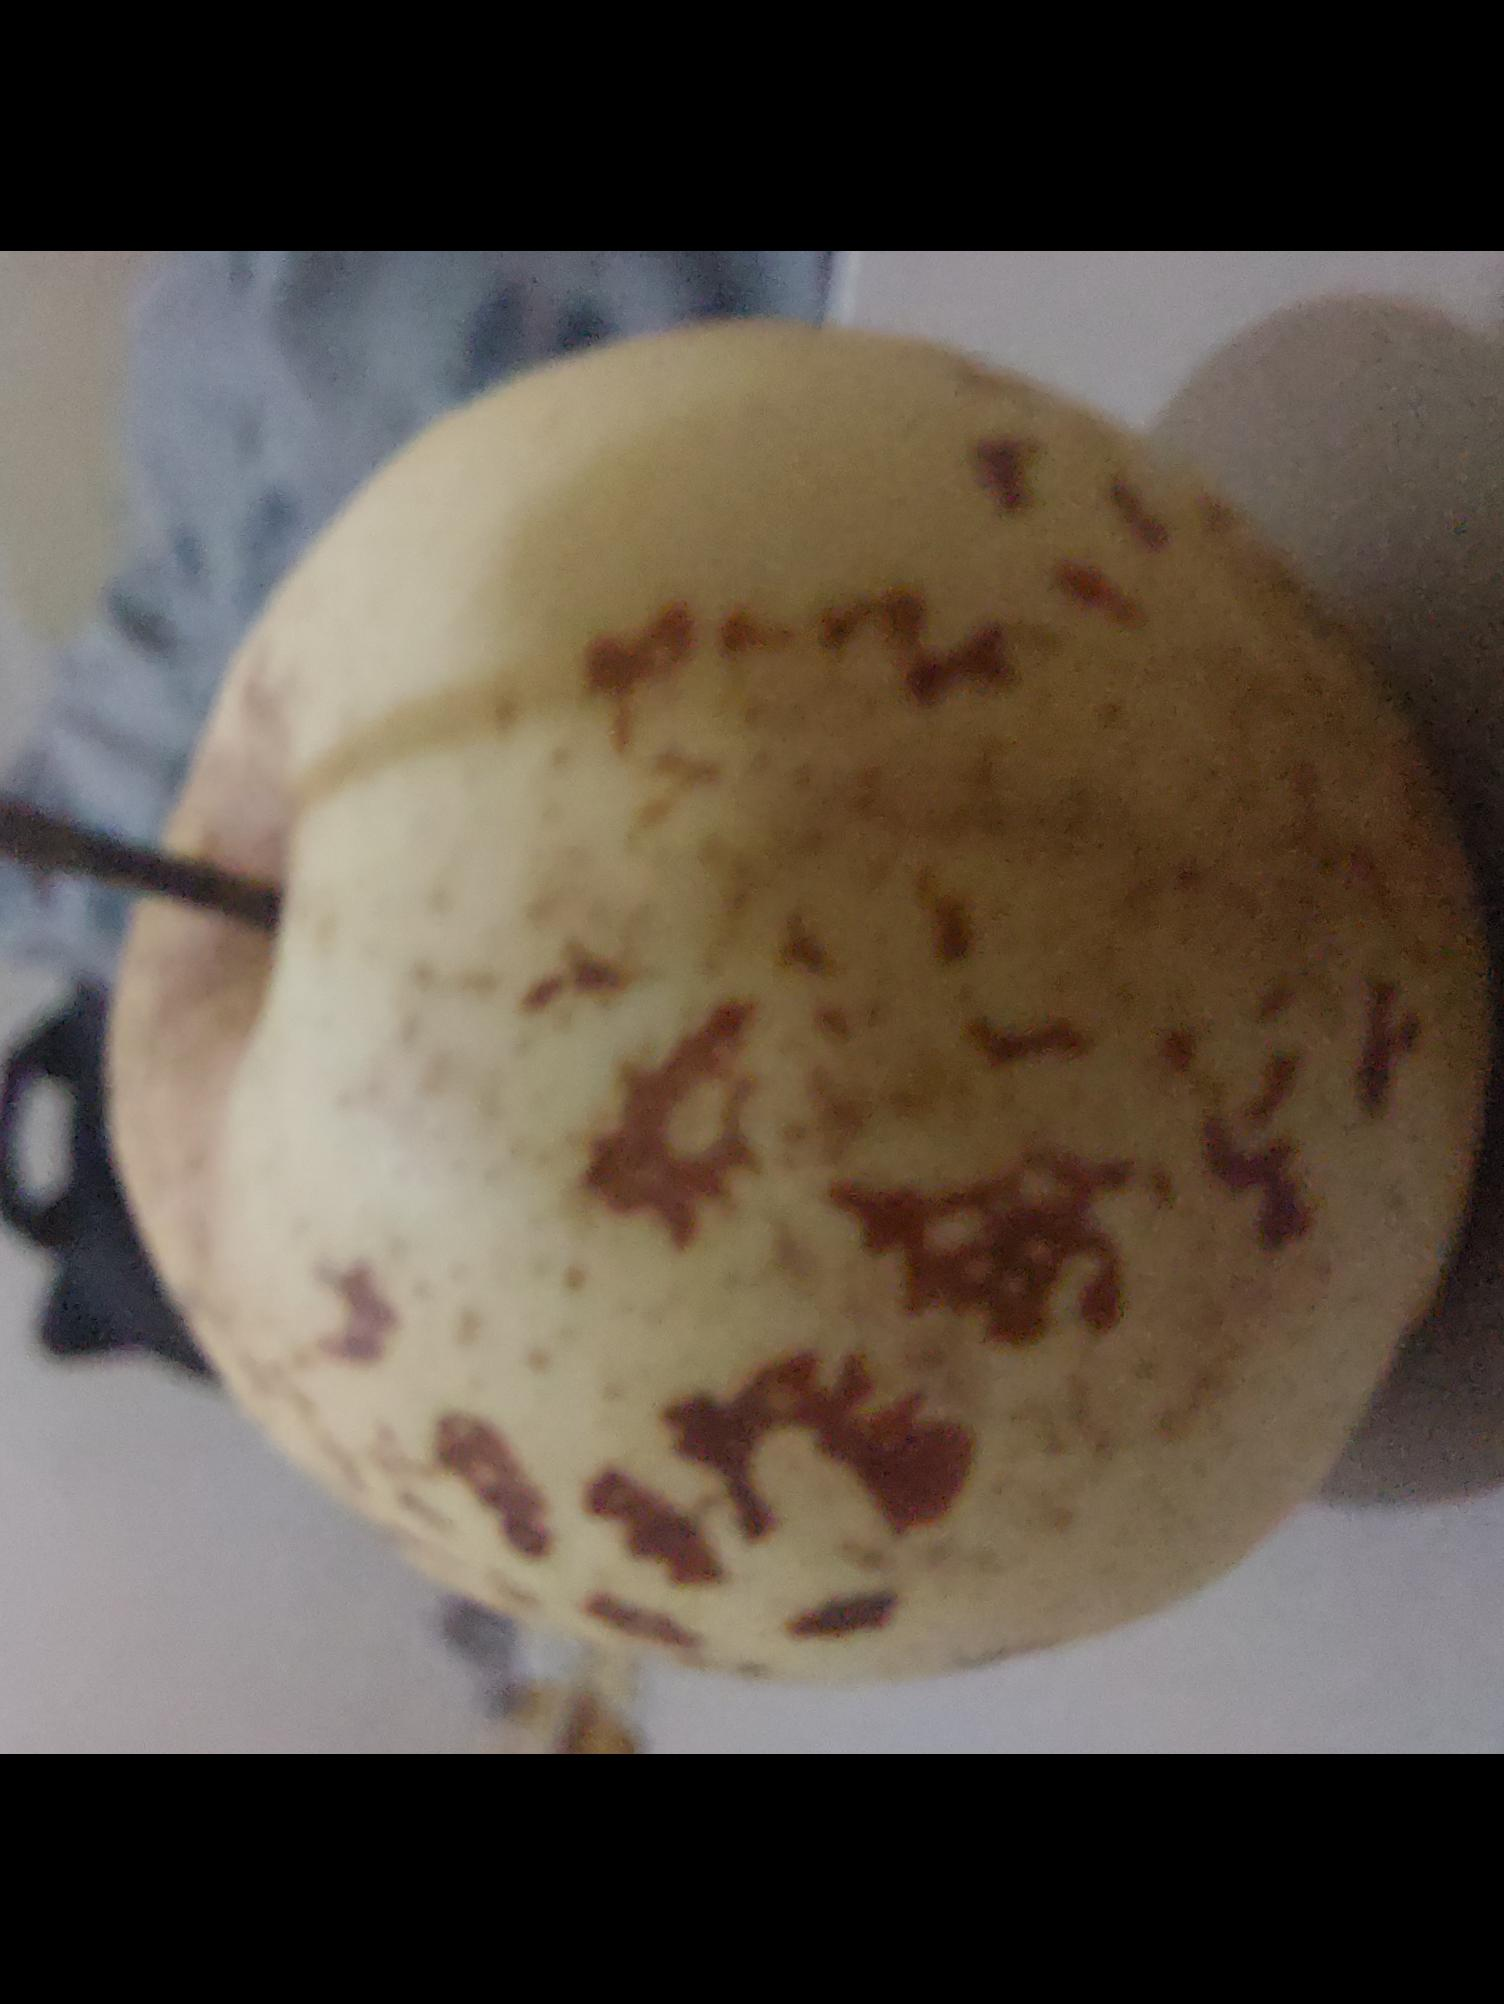Bad Pear: (85, 250, 1504, 1696)
